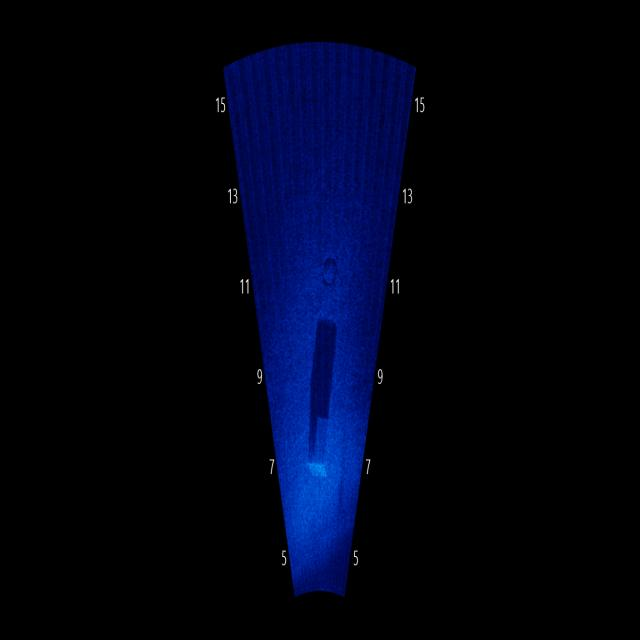square: (302, 408, 337, 488)
